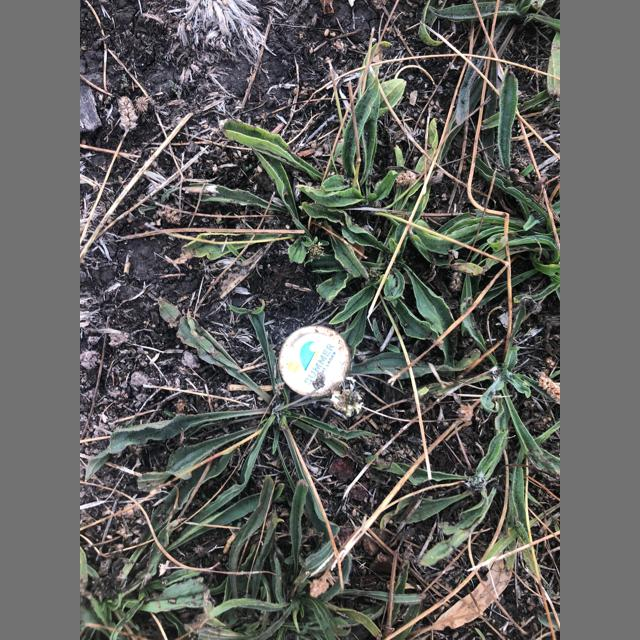litter: (278, 325, 351, 397)
